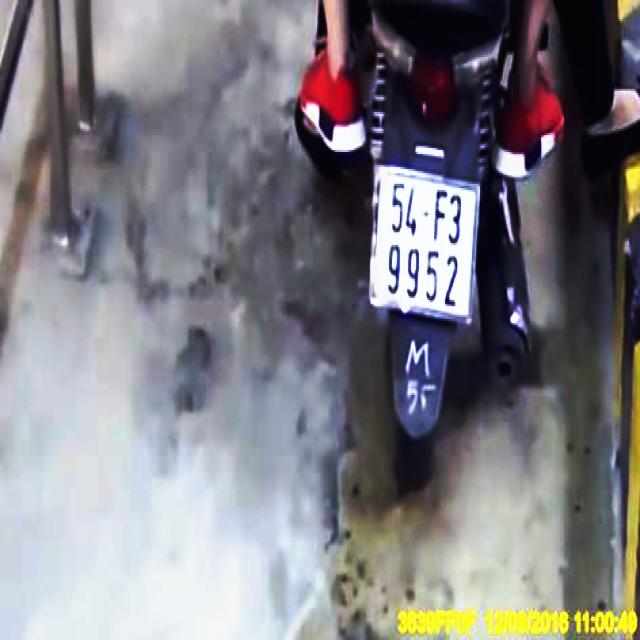license_plate: (372, 171, 482, 320)
